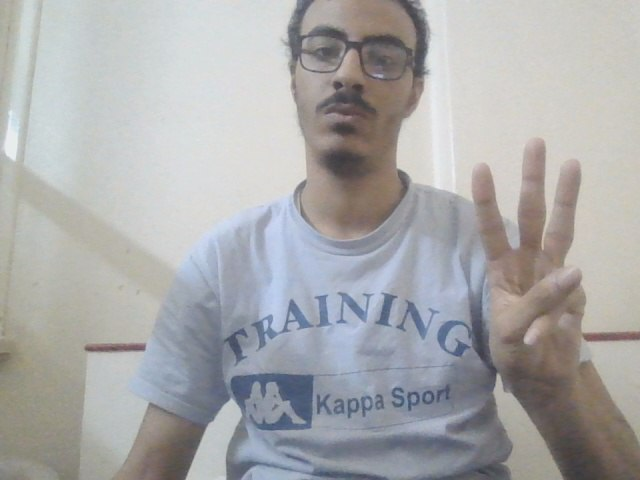Water: (462, 135, 612, 391)
